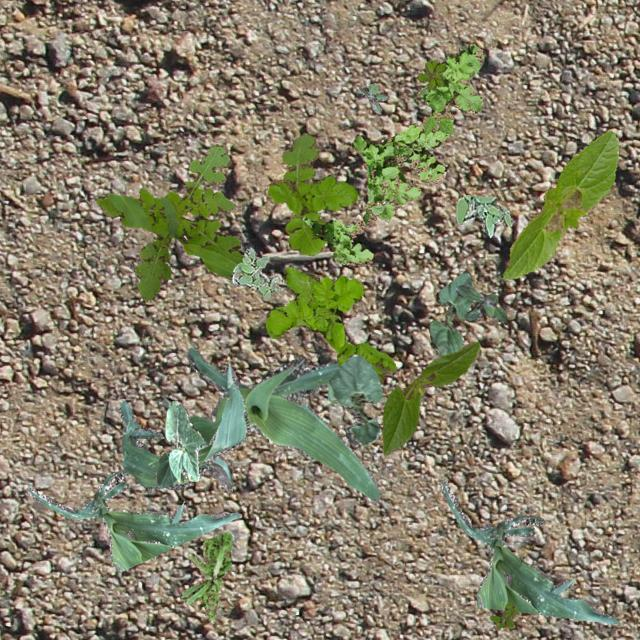crop: (186, 346, 380, 499), (439, 478, 616, 622), (26, 468, 240, 570), (500, 130, 618, 278), (118, 362, 248, 488), (382, 341, 479, 454), (326, 352, 382, 444), (154, 399, 202, 486), (428, 270, 470, 356)
weed: (302, 42, 482, 266), (96, 144, 242, 300), (264, 264, 394, 382), (268, 132, 358, 255), (180, 530, 230, 618), (230, 247, 278, 300), (454, 194, 512, 236), (454, 284, 506, 322), (358, 84, 386, 112), (416, 60, 444, 88), (488, 602, 516, 630)
